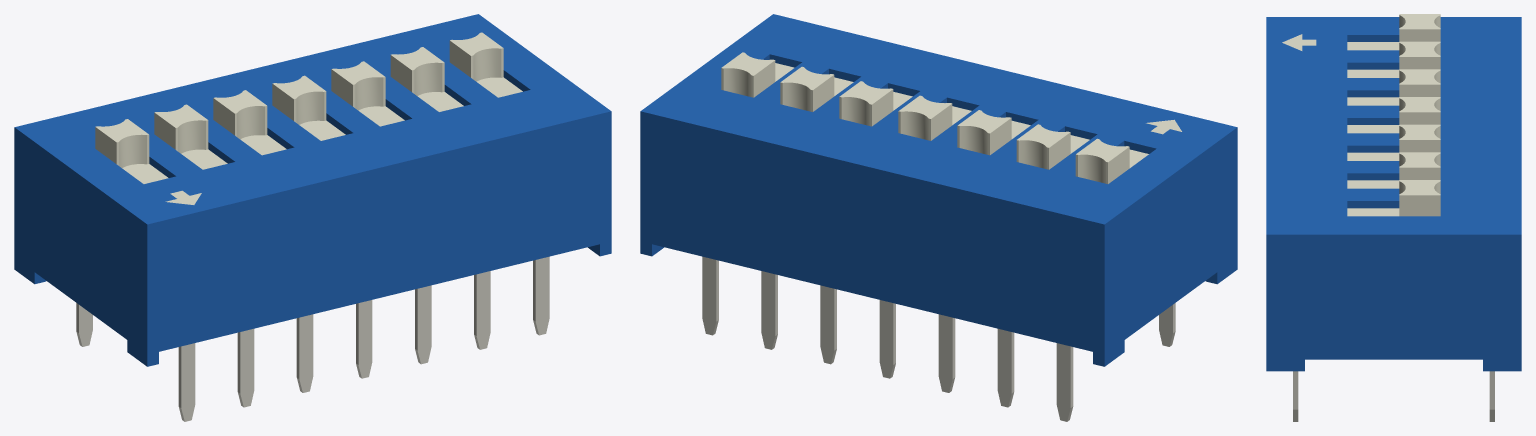
File: kc-sw_dip_spstx07_slide_9.78x19.96mm_w7.62mm_p2.54mm.glb
The picture shows the model from 3 angles, left to right: view 1: azimuth 30°, elevation 25°; view 2: azimuth 150°, elevation 25°; view 3: azimuth 270°, elevation 25°; orthographic projection. The views are drawn at different scales.
Parts seen in each view (by area): view 1: 0_0.16666666666666666_0.5_0, 0.75_0.75_0.6666666666666666_0, 0.6666666666666666_0.6666666666666666_0.5833333333333334_0.8; view 2: 0_0.16666666666666666_0.5_0, 0.75_0.75_0.6666666666666666_0, 0.6666666666666666_0.6666666666666666_0.5833333333333334_0.8; view 3: 0_0.16666666666666666_0.5_0, 0.75_0.75_0.6666666666666666_0, 0.6666666666666666_0.6666666666666666_0.5833333333333334_0.8.
Boxes of the visible parts, x1,y1,x2,y2 form: 0_0.16666666666666666_0.5_0: (14, 14, 611, 366); 0.75_0.75_0.6666666666666666_0: (95, 32, 522, 204); 0.6666666666666666_0.6666666666666666_0.5833333333333334_0.8: (76, 256, 549, 421); 0_0.16666666666666666_0.5_0: (640, 14, 1237, 366); 0.75_0.75_0.6666666666666666_0: (721, 52, 1181, 183); 0.6666666666666666_0.6666666666666666_0.5833333333333334_0.8: (702, 256, 1175, 421); 0_0.16666666666666666_0.5_0: (1266, 17, 1521, 371); 0.75_0.75_0.6666666666666666_0: (1282, 14, 1440, 216); 0.6666666666666666_0.6666666666666666_0.5833333333333334_0.8: (1293, 371, 1494, 421).
Size of the model in its own units: 2 by 0.9949 by 0.9901.
